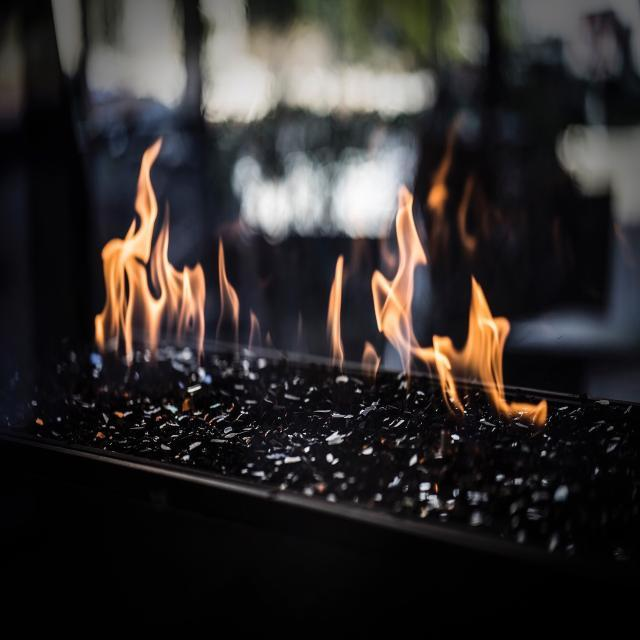Fire: (361, 156, 548, 428), (93, 136, 206, 370), (216, 240, 240, 344), (326, 253, 344, 373), (248, 308, 272, 356)
